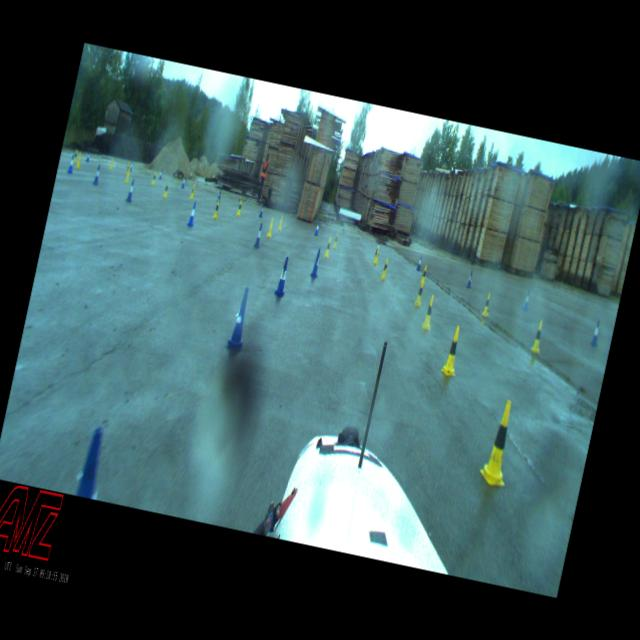blue_cone: (76, 426, 111, 500), (226, 287, 254, 353), (274, 256, 290, 297), (310, 248, 323, 278), (590, 320, 602, 346), (253, 222, 264, 248), (125, 178, 136, 202), (187, 201, 197, 226), (521, 289, 531, 311), (92, 164, 101, 184), (68, 154, 76, 173), (466, 270, 474, 288), (416, 255, 422, 271), (314, 222, 320, 236), (375, 241, 381, 254), (216, 189, 222, 202), (258, 205, 264, 217), (181, 175, 186, 188), (86, 151, 90, 161), (158, 168, 162, 178)
yellow_cone: (478, 398, 522, 488), (440, 324, 466, 376), (420, 294, 438, 330), (532, 320, 544, 350), (414, 276, 426, 306), (482, 292, 492, 316), (380, 258, 389, 279), (420, 264, 428, 284), (324, 237, 332, 257), (266, 217, 274, 237), (212, 199, 220, 217), (373, 246, 381, 264), (162, 180, 169, 198), (236, 198, 243, 214), (124, 166, 131, 182), (277, 213, 284, 229), (332, 232, 338, 248), (150, 170, 156, 183), (76, 155, 82, 167), (73, 149, 78, 162), (190, 184, 194, 199), (108, 158, 114, 168)
